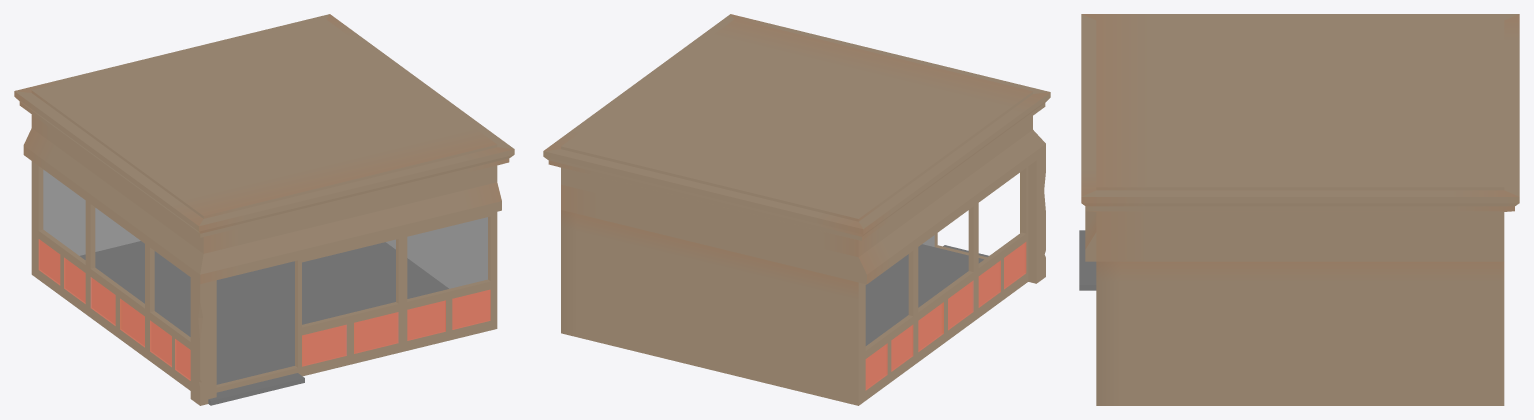
Rendered from ewsferwfer.FBX.
3 renders of one model, left to right at view 1: azimuth 30°, elevation 25°; view 2: azimuth 150°, elevation 25°; view 3: azimuth 270°, elevation 25°, orthographic. The views are drawn at different scales.
Parts seen in each view (by area): view 1: polySurface16; view 2: polySurface16; view 3: polySurface16.
Part boxes in pixels (x1,y1,x2,y2): polySurface16: (14,14,514,405); polySurface16: (543,14,1050,405); polySurface16: (1079,14,1519,405).
Size of the model in its own units: 538 by 300 by 547.
